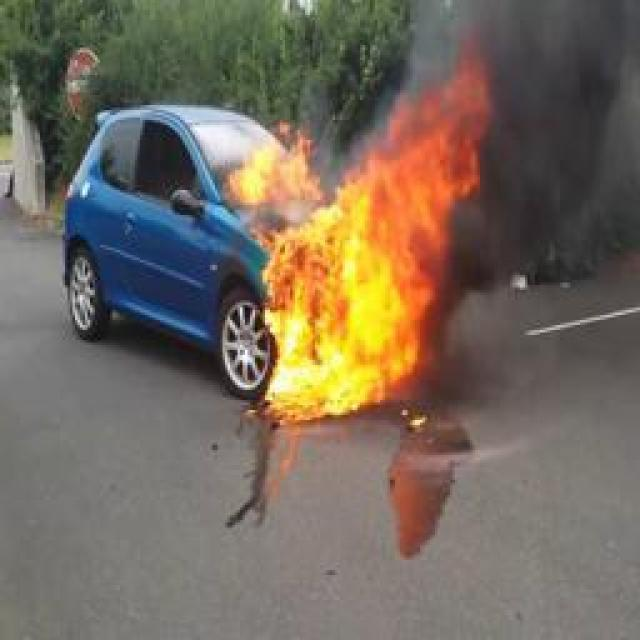Fire: (228, 36, 488, 424)
